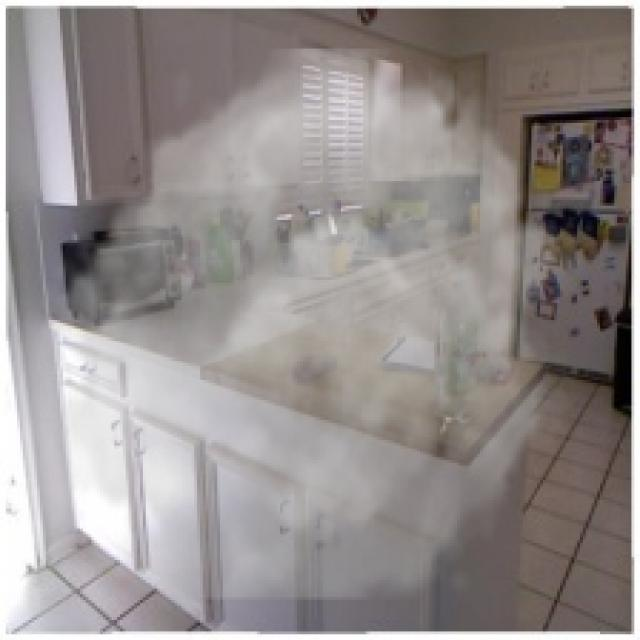smoke: (34, 49, 586, 600)
